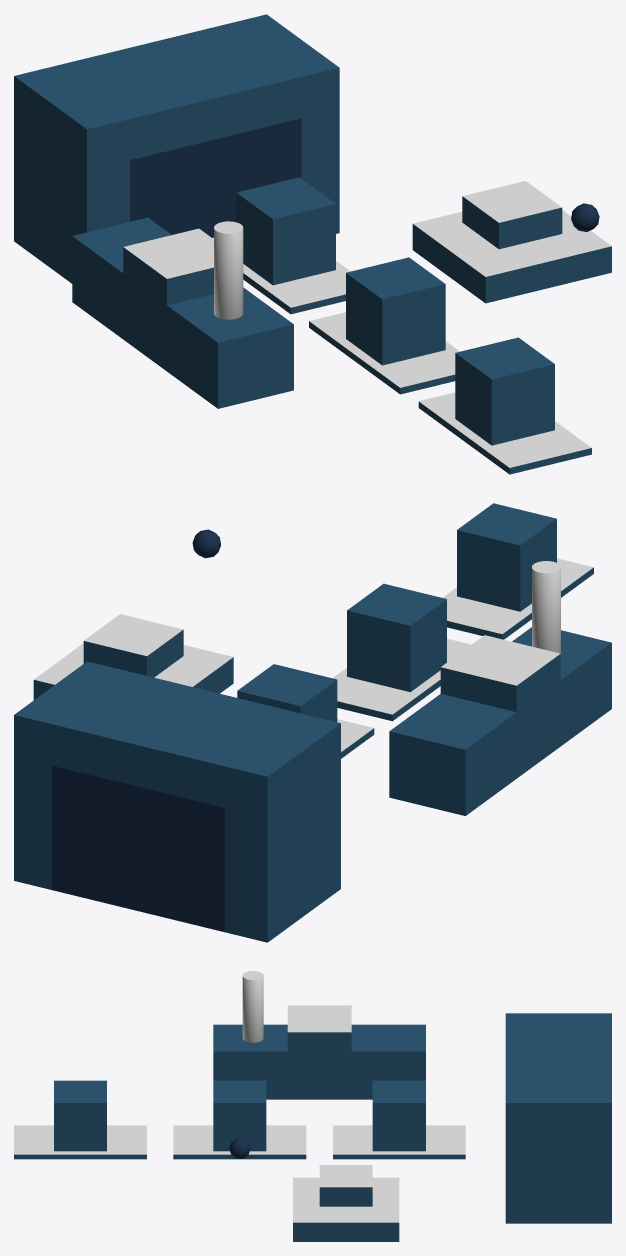
File: cubes_scene.gltf
The picture shows the model from 3 angles, top to bottom: view 1: azimuth 30°, elevation 25°; view 2: azimuth 150°, elevation 25°; view 3: azimuth 270°, elevation 25°; orthographic projection. The views are drawn at different scales.
Visible parts, largest first — view 1: Cube, Cube.007, PackageBase.003, Package.001, Package.002, Cube.004, Cube.008, PackageBase.004, PackageBase.002, PackageBase.001, Cylinder, PackageBase.000 (+1 smaller); view 2: Cube, Cube.007, Package.001, Package.002, Cube.008, PackageBase.004, Cube.004, PackageBase.003, PackageBase.002, PackageBase.001, Cylinder, PackageBase.000 (+1 smaller); view 3: Cube, Cube.007, PackageBase.003, Cube.004, Package.002, Package.001, PackageBase.000, PackageBase.002, PackageBase.001, Cube.008, PackageBase.004, Cylinder.
Boxes of the visible parts, x1,y1,x2,y2 form: Cube: [14, 14, 339, 283]; Cube.007: [72, 217, 293, 408]; PackageBase.003: [412, 210, 611, 303]; Package.001: [346, 257, 445, 365]; Package.002: [455, 337, 554, 445]; Cube.004: [236, 177, 335, 285]; Cube.008: [123, 228, 213, 305]; PackageBase.004: [462, 181, 562, 249]; PackageBase.002: [418, 392, 591, 474]; PackageBase.001: [309, 312, 459, 394]; Cylinder: [214, 221, 243, 319]; PackageBase.000: [212, 237, 350, 314]; Cube: [14, 661, 340, 942]; Cube.007: [389, 627, 611, 815]; Package.001: [347, 583, 446, 692]; Package.002: [457, 503, 556, 611]; Cube.008: [440, 635, 560, 712]; PackageBase.004: [83, 614, 183, 677]; Cube.004: [237, 664, 337, 722]; PackageBase.003: [33, 643, 233, 699]; PackageBase.002: [442, 558, 593, 639]; PackageBase.001: [333, 638, 470, 721]; Cylinder: [532, 561, 560, 654]; PackageBase.000: [337, 719, 374, 758]; Cube: [505, 1013, 611, 1223]; Cube.007: [213, 1024, 425, 1099]; PackageBase.003: [293, 1177, 399, 1241]; Cube.004: [372, 1080, 425, 1151]; Package.002: [54, 1080, 106, 1151]; Package.001: [213, 1080, 266, 1151]; PackageBase.000: [333, 1125, 465, 1159]; PackageBase.002: [14, 1125, 146, 1159]; PackageBase.001: [173, 1125, 306, 1159]; Cube.008: [287, 1005, 351, 1051]; PackageBase.004: [319, 1165, 372, 1206]; Cylinder: [242, 971, 263, 1042].
Bounding box in the file's own units: 14.2 × 6.1 × 22.5.
